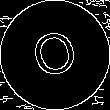O_S: (26, 24, 84, 86)
